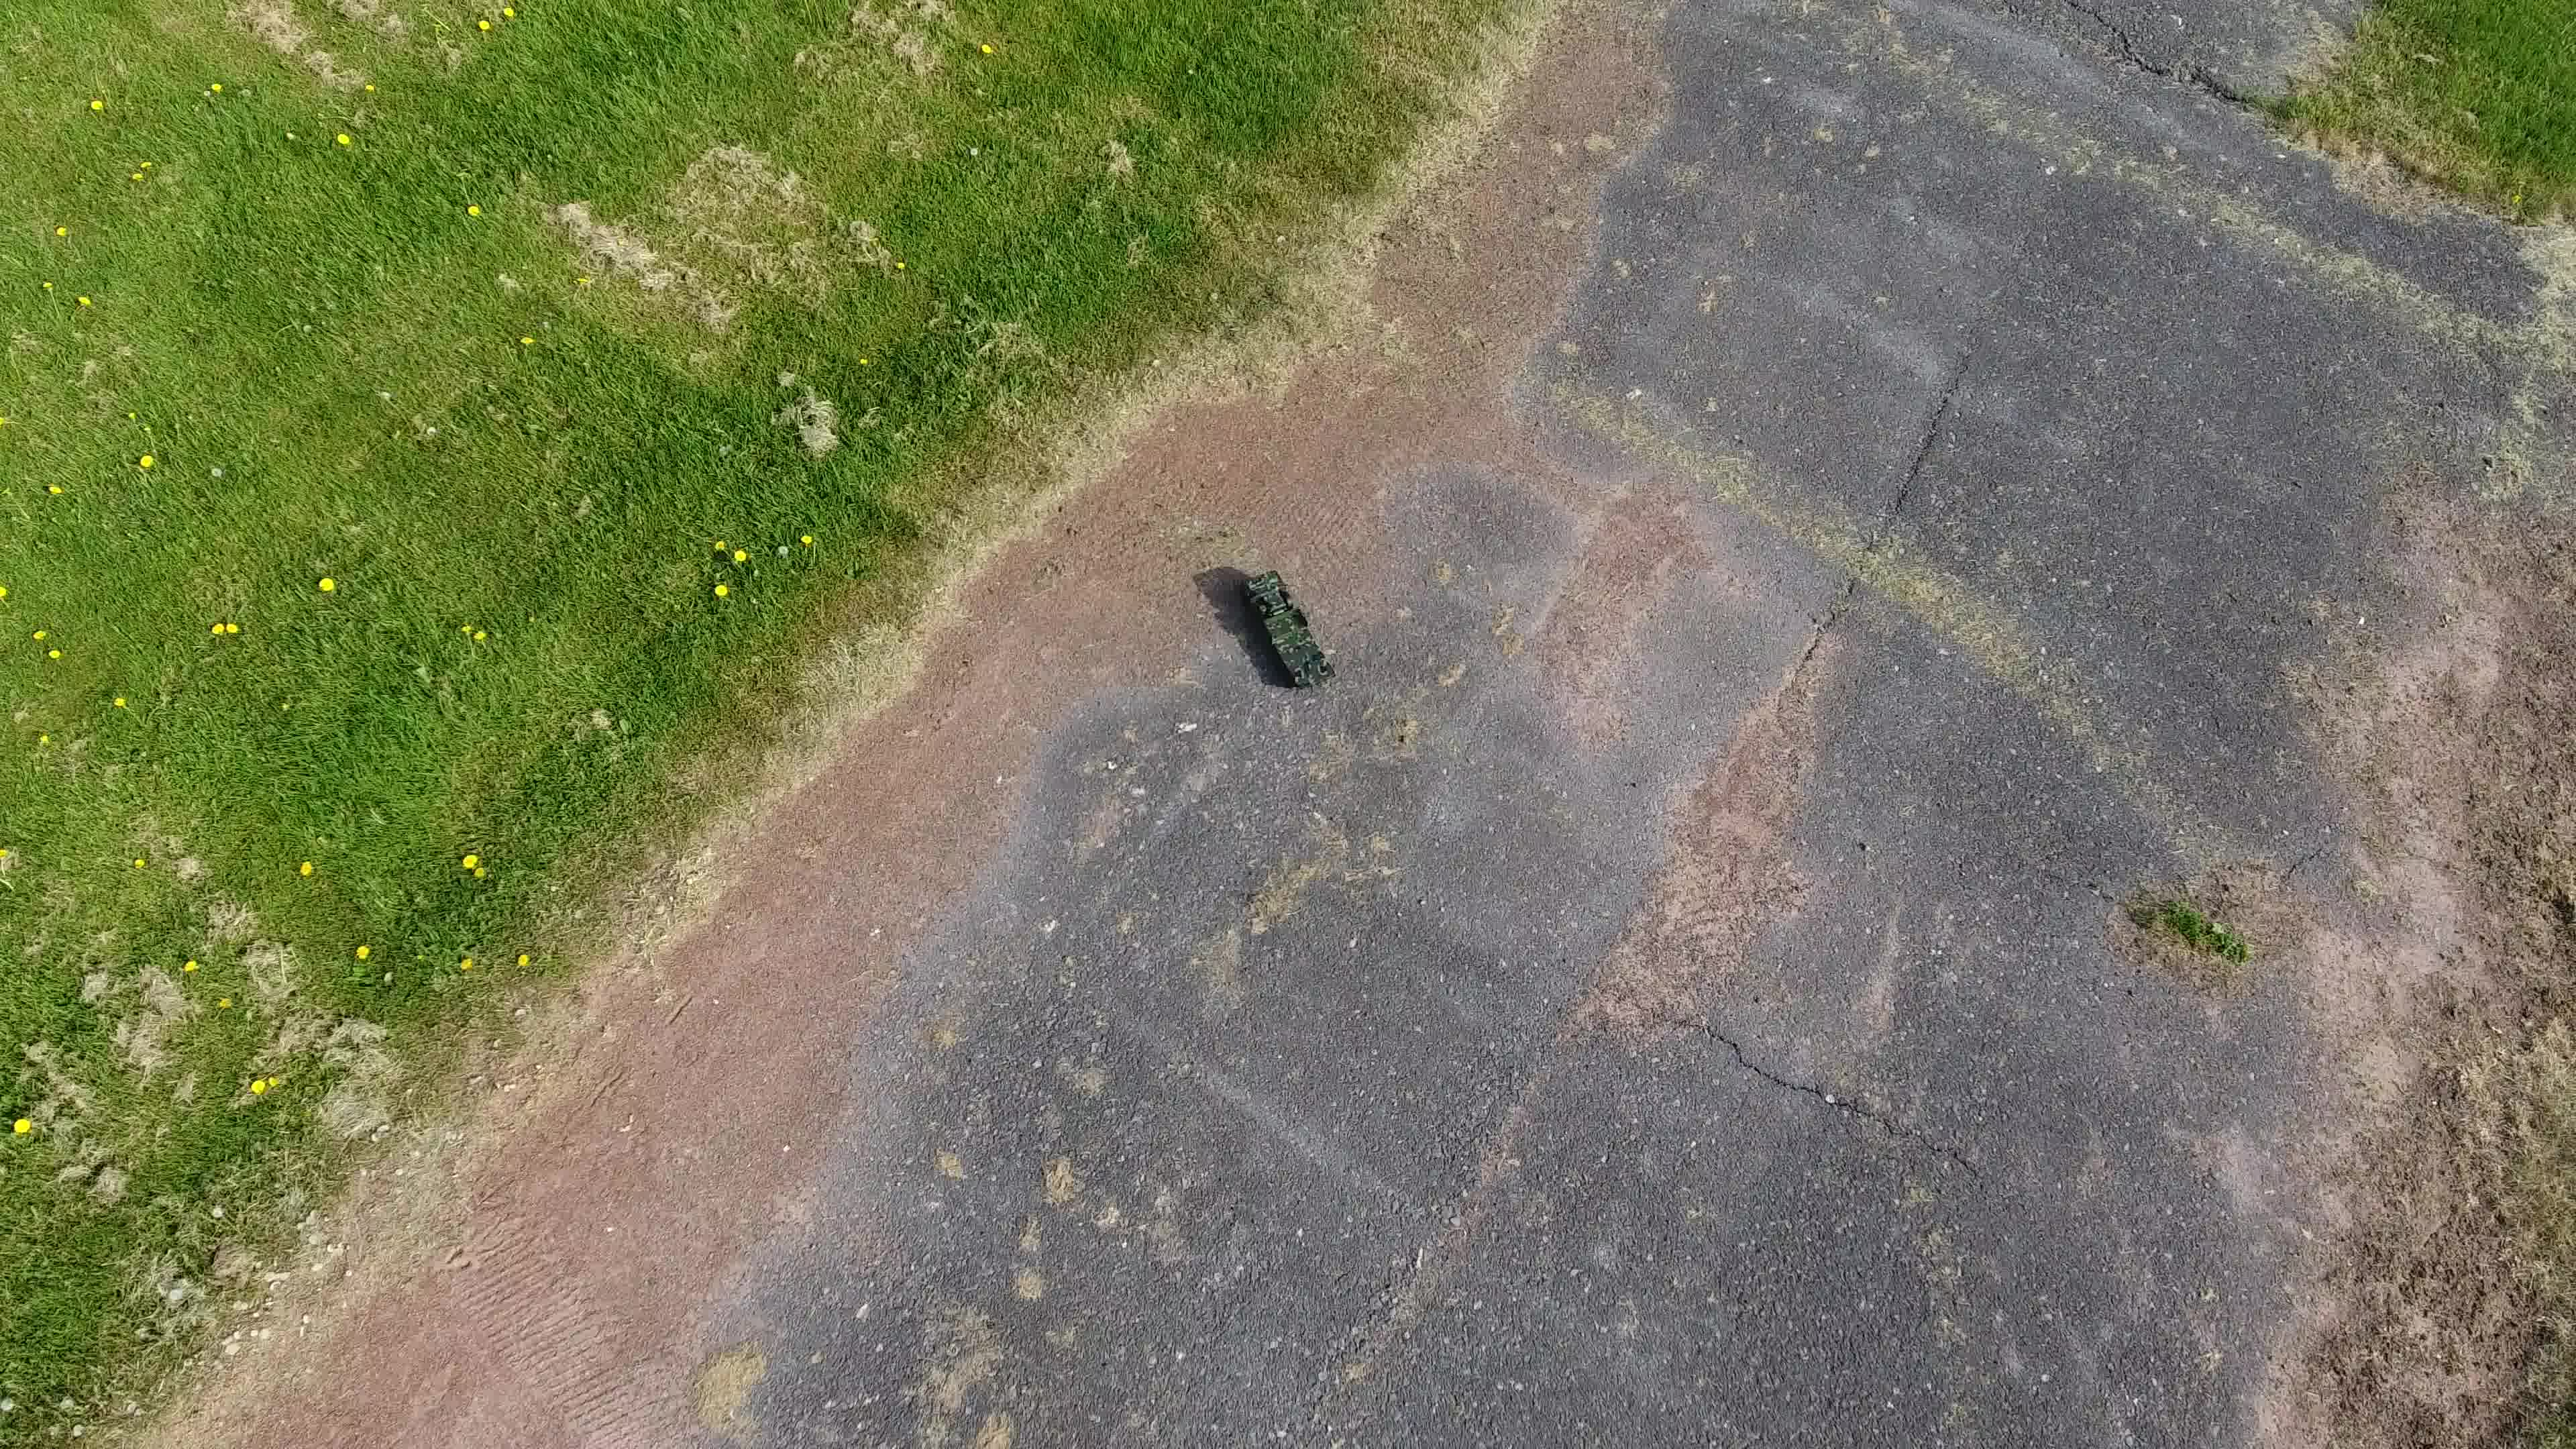transporter9_camo: (1238, 570, 1338, 694)
